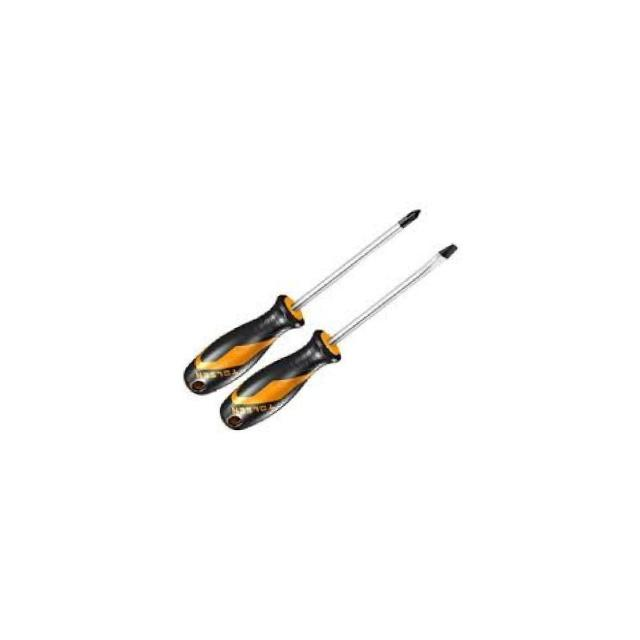screwdriver: (212, 240, 462, 432), (176, 206, 426, 398)
